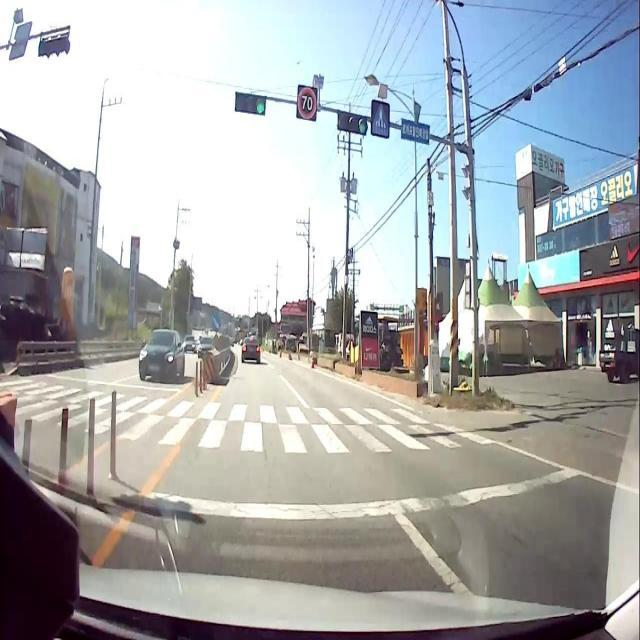crosswalk: (0, 377, 499, 454)
